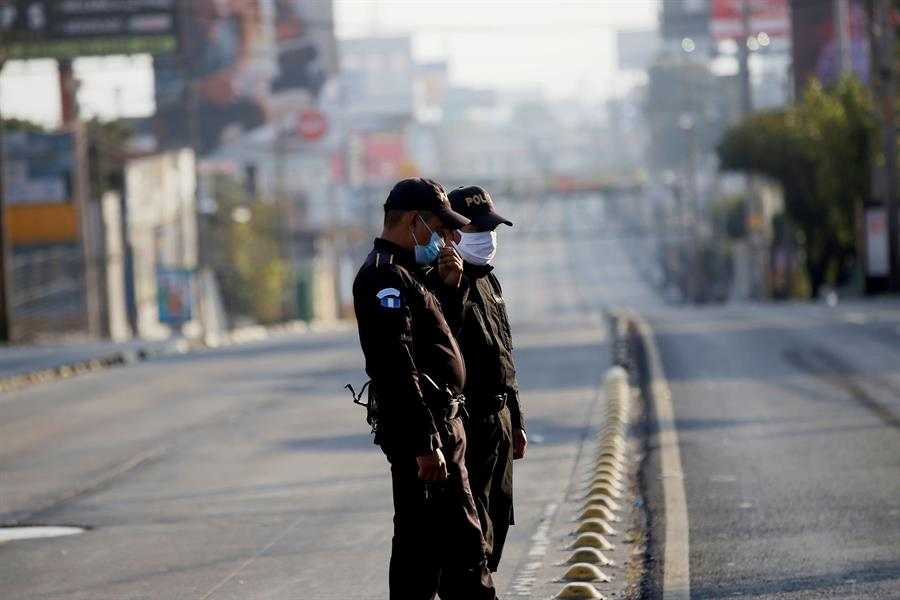person: (335, 174, 513, 600), (437, 175, 545, 557)
